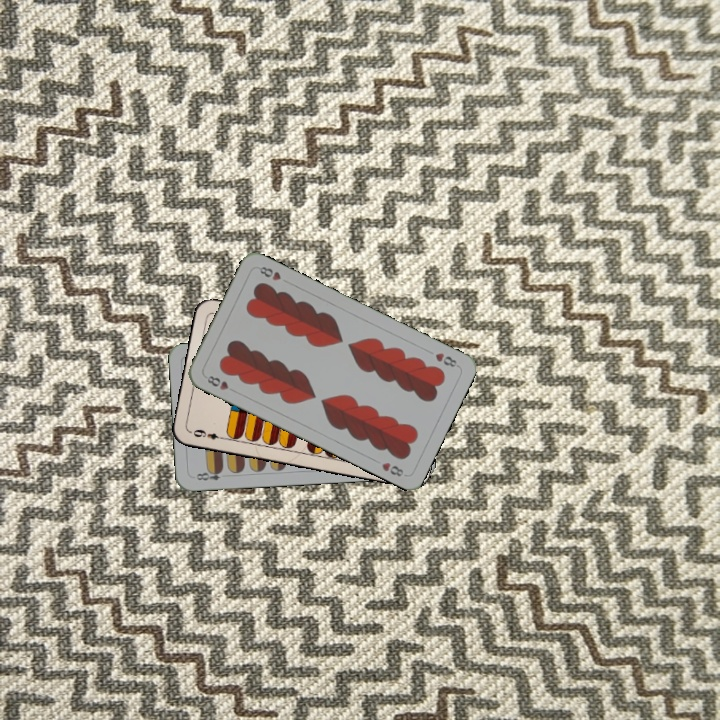E8: (192, 465, 225, 483)
E9: (187, 425, 228, 442)
H8: (431, 348, 462, 370), (203, 372, 231, 393)
